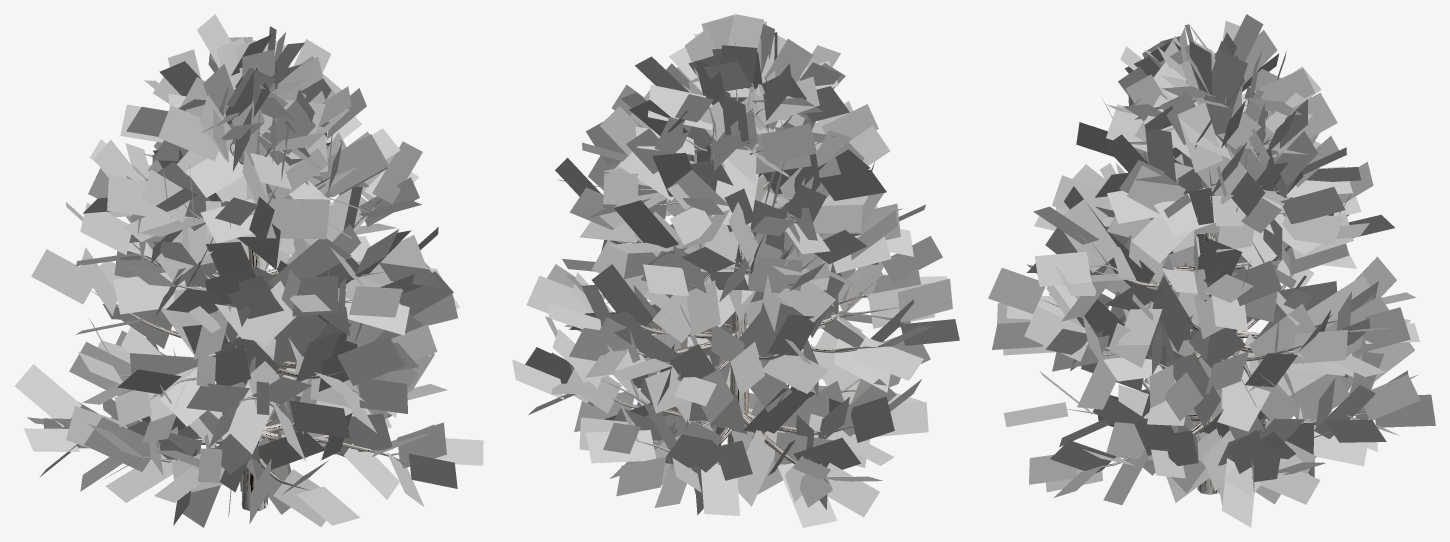
Rendered from drzewoDEL4.fbx.
The picture shows the model from 3 angles, left to right: view 1: azimuth 30°, elevation 25°; view 2: azimuth 150°, elevation 25°; view 3: azimuth 270°, elevation 25°; orthographic projection. The views are drawn at different scales.
Visible parts, largest first — view 1: leaves, tree; view 2: leaves, tree; view 3: leaves, tree.
Part boxes in pixels (bbox=[...]): leaves: bbox=[15, 14, 483, 527]; tree: bbox=[91, 109, 409, 510]; leaves: bbox=[512, 14, 959, 527]; tree: bbox=[601, 89, 898, 479]; leaves: bbox=[988, 14, 1435, 527]; tree: bbox=[1041, 111, 1366, 494].
Size of the model in its own units: 335 by 409 by 357.
